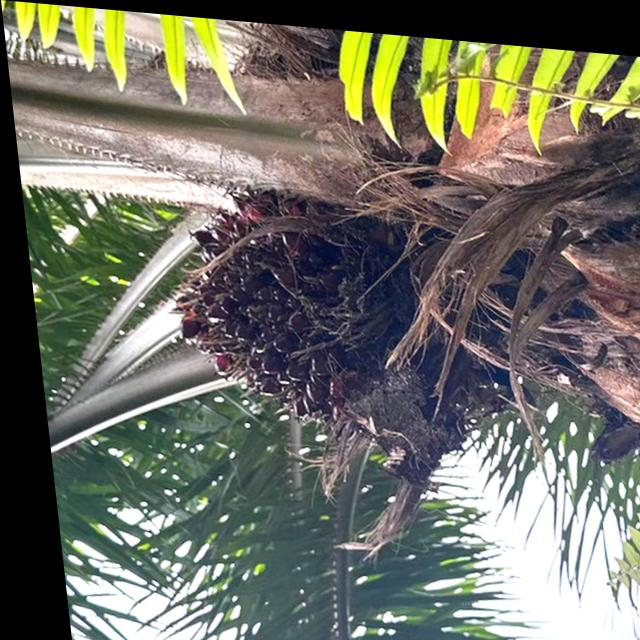ripe: (132, 167, 424, 450)
